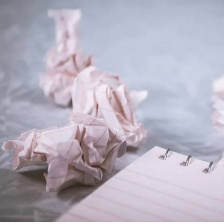book: (51, 143, 224, 223), (2, 114, 128, 197), (68, 62, 154, 155), (34, 4, 102, 109)
